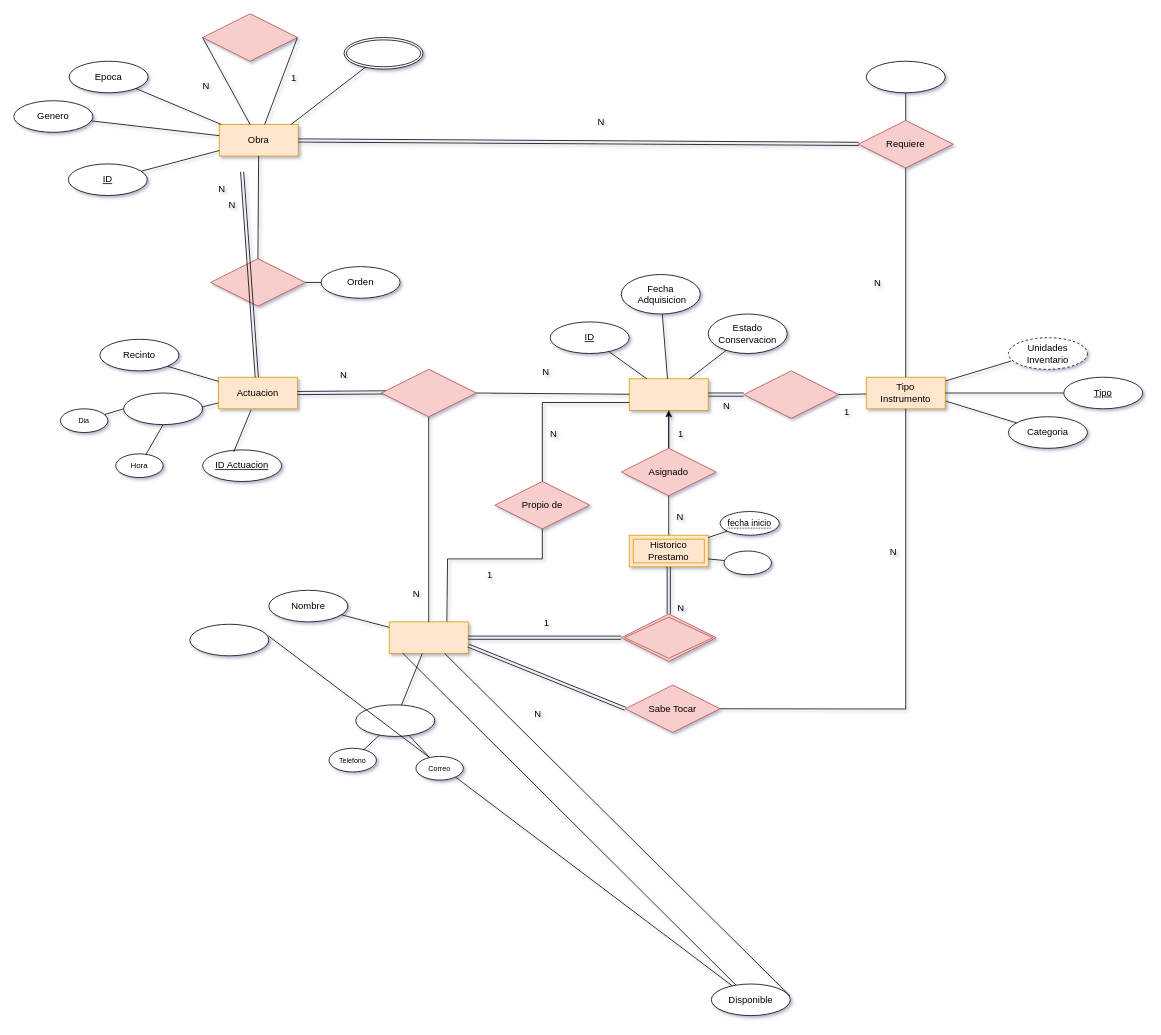
Image size: 1161x1035. Some labels were removed from this diagram. Each missing label, with the centre of its shape:
Actuo: the point at 428,393
Autor: the point at 383,53
Contacto: the point at 395,720
Contiene: the point at 257,282
DNI: the point at 229,639
Es: the point at 791,394
Es nueva version: the point at 249,37
Fecha: the point at 163,408
fecha final: the point at 747,562
Instrumento: the point at 668,394
Musico: the point at 428,637
Tiene: the point at 668,637
Unidades: the point at 905,76
